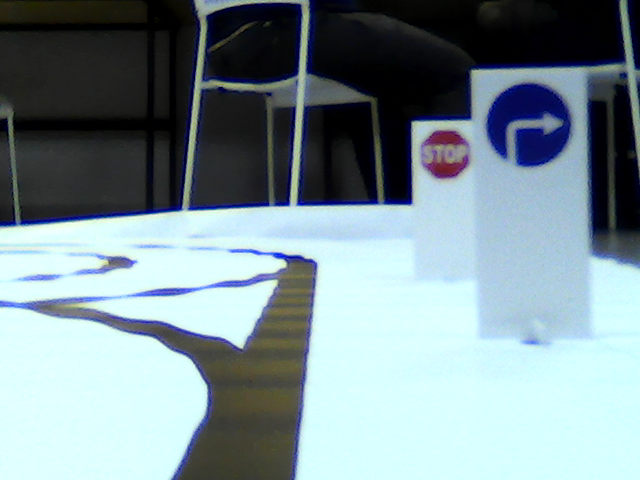Right: (483, 79, 576, 166)
Stop: (419, 131, 473, 178)
